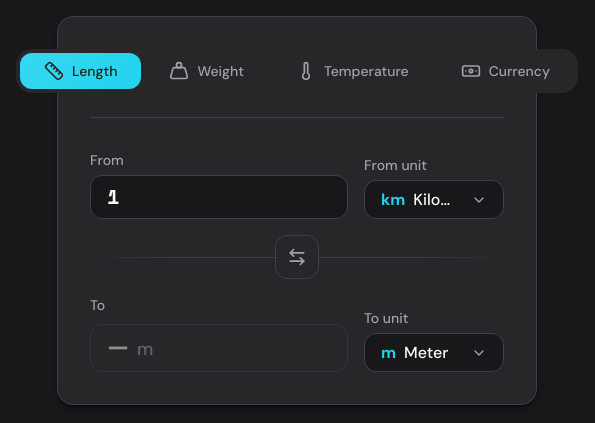
Test case: ConverterCard › category switching › resets input value when category changes
Replace the text in the field labelled "From" with "100" at (219, 196), box [90,174,348,218]
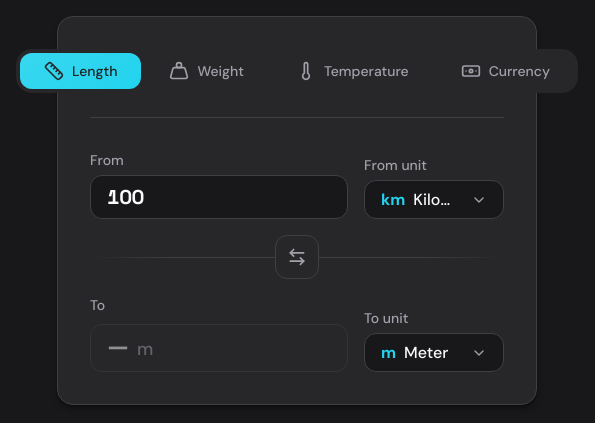
Click the tab "Weight".
click(207, 70)  # box [146,52,268,88]
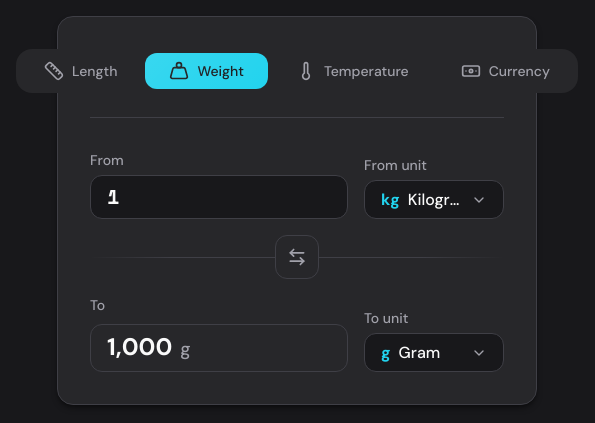
Result: the field labelled "From" holds "1" at [90,174,348,218]
